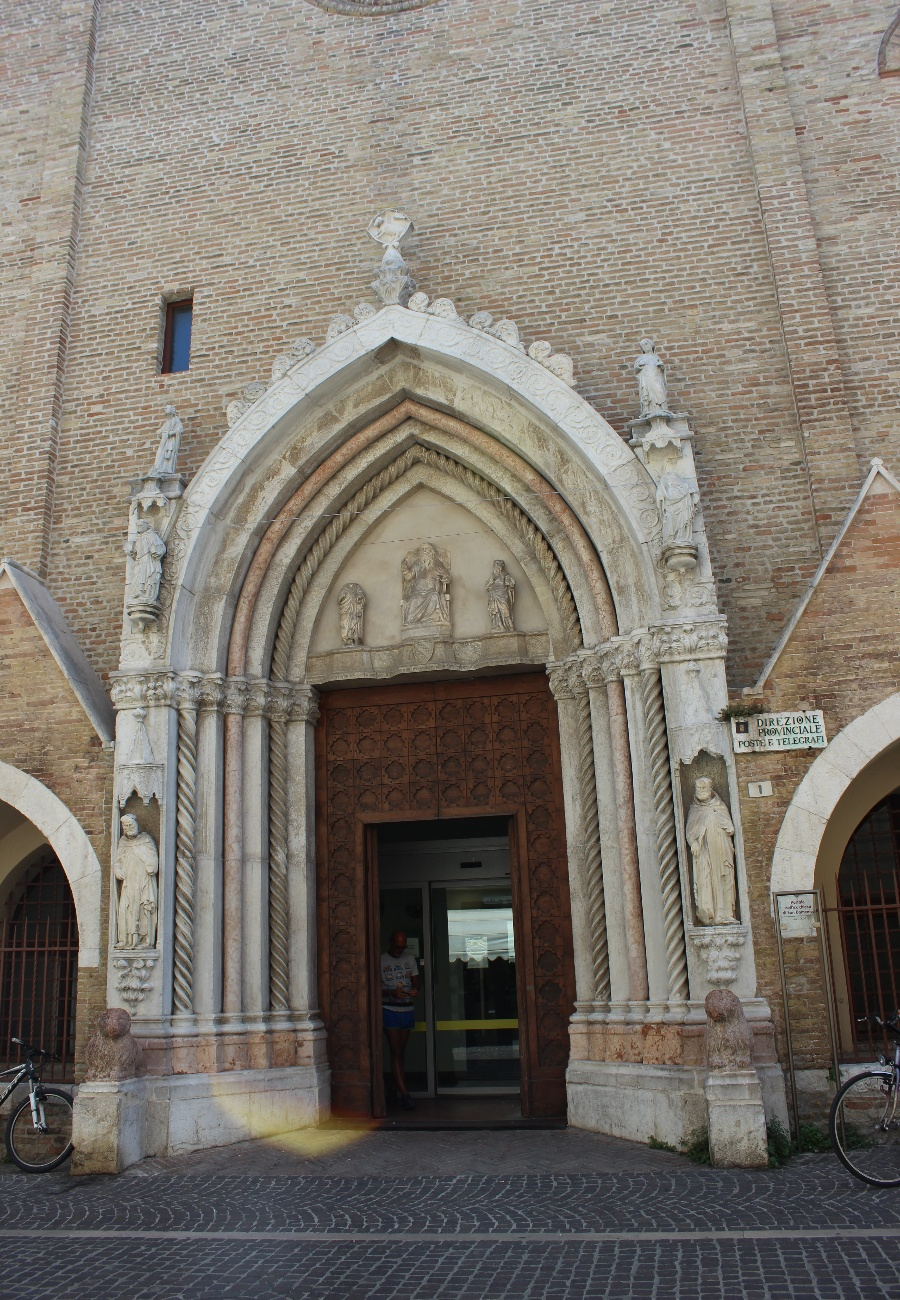Portale San Domenico: (108, 210, 764, 1179)
